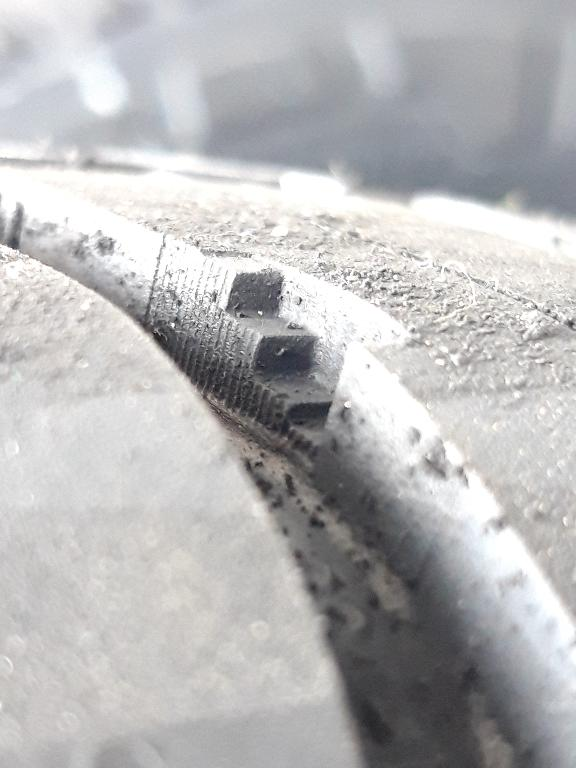temoin:75: (172, 242, 431, 482)
